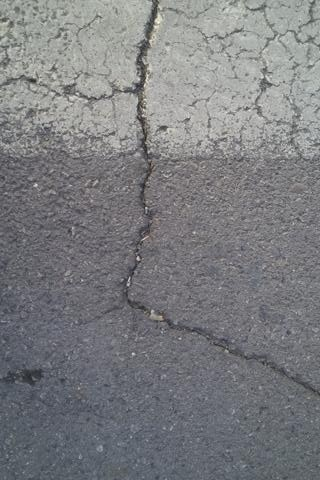A: (120, 2, 166, 320), (167, 319, 320, 395), (2, 71, 139, 108)
